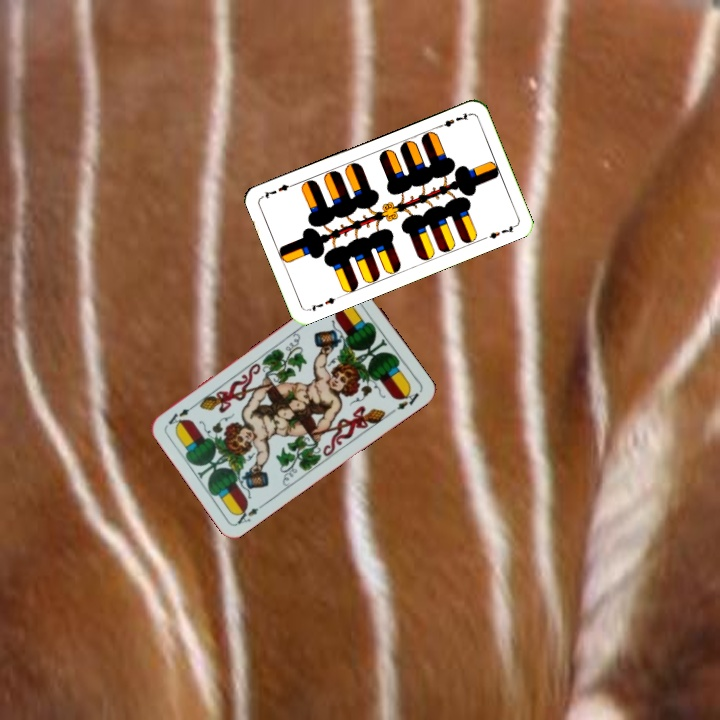E7: (433, 109, 472, 131), (304, 293, 338, 313)
EA: (231, 499, 269, 527)
